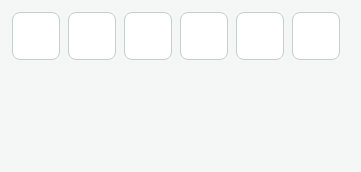
Test case: OTPInput › spreads a whole code inserted into the first box (iOS SMS autofill)
In the field named "Digit 1 of 6": coordinates (36, 36) [12, 12, 60, 60], type "533458"
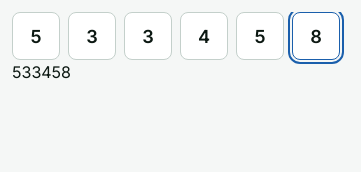
Check: the text with test id "value" reads "533458", box [12, 62, 71, 82]
